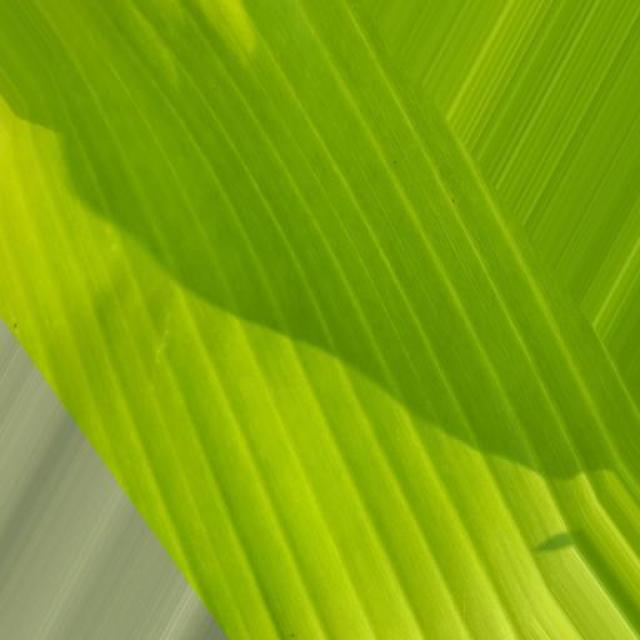Black_leaf_spot: (0, 0, 530, 591)
